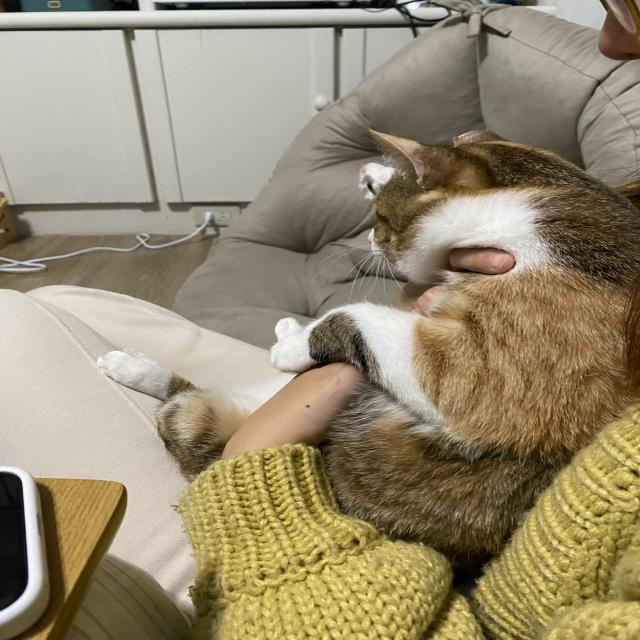cat2: (118, 131, 622, 540)
